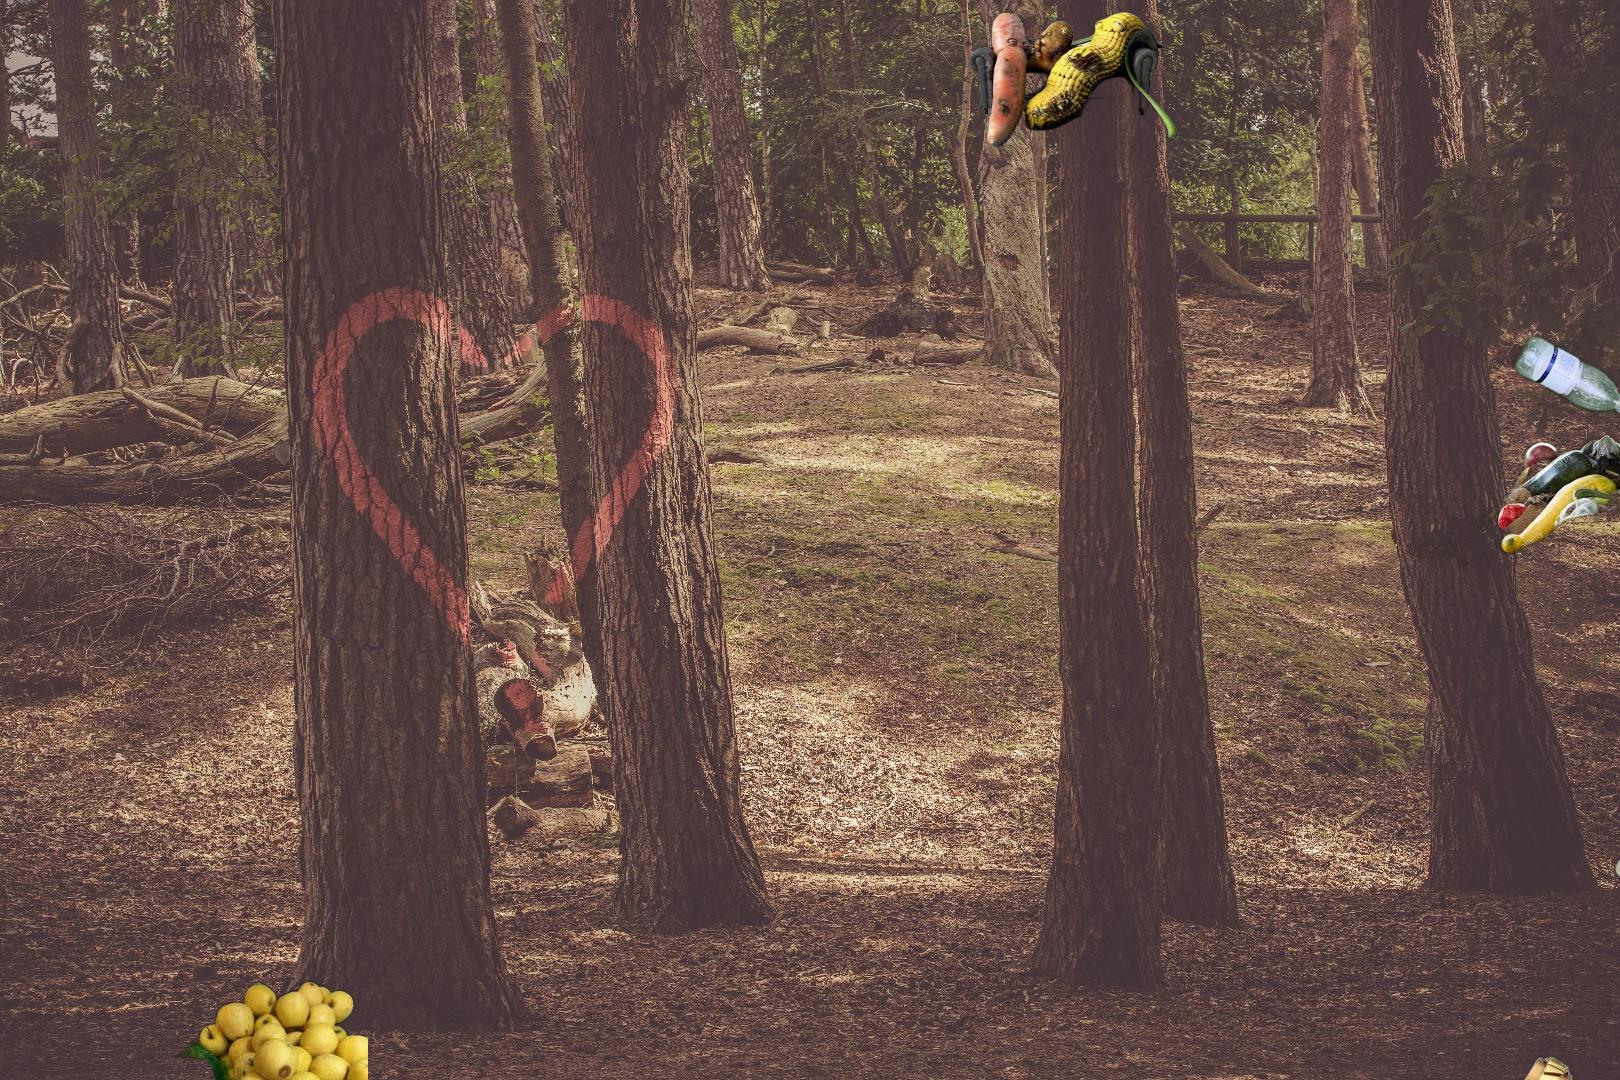biological: (1368, 417, 1620, 593), (965, 6, 1181, 149), (174, 978, 368, 1080)
plastic-bottles: (1186, 330, 1620, 616)
shoes: (1437, 1053, 1598, 1080)
trashbox-cardboard: (1612, 623, 1620, 903)
